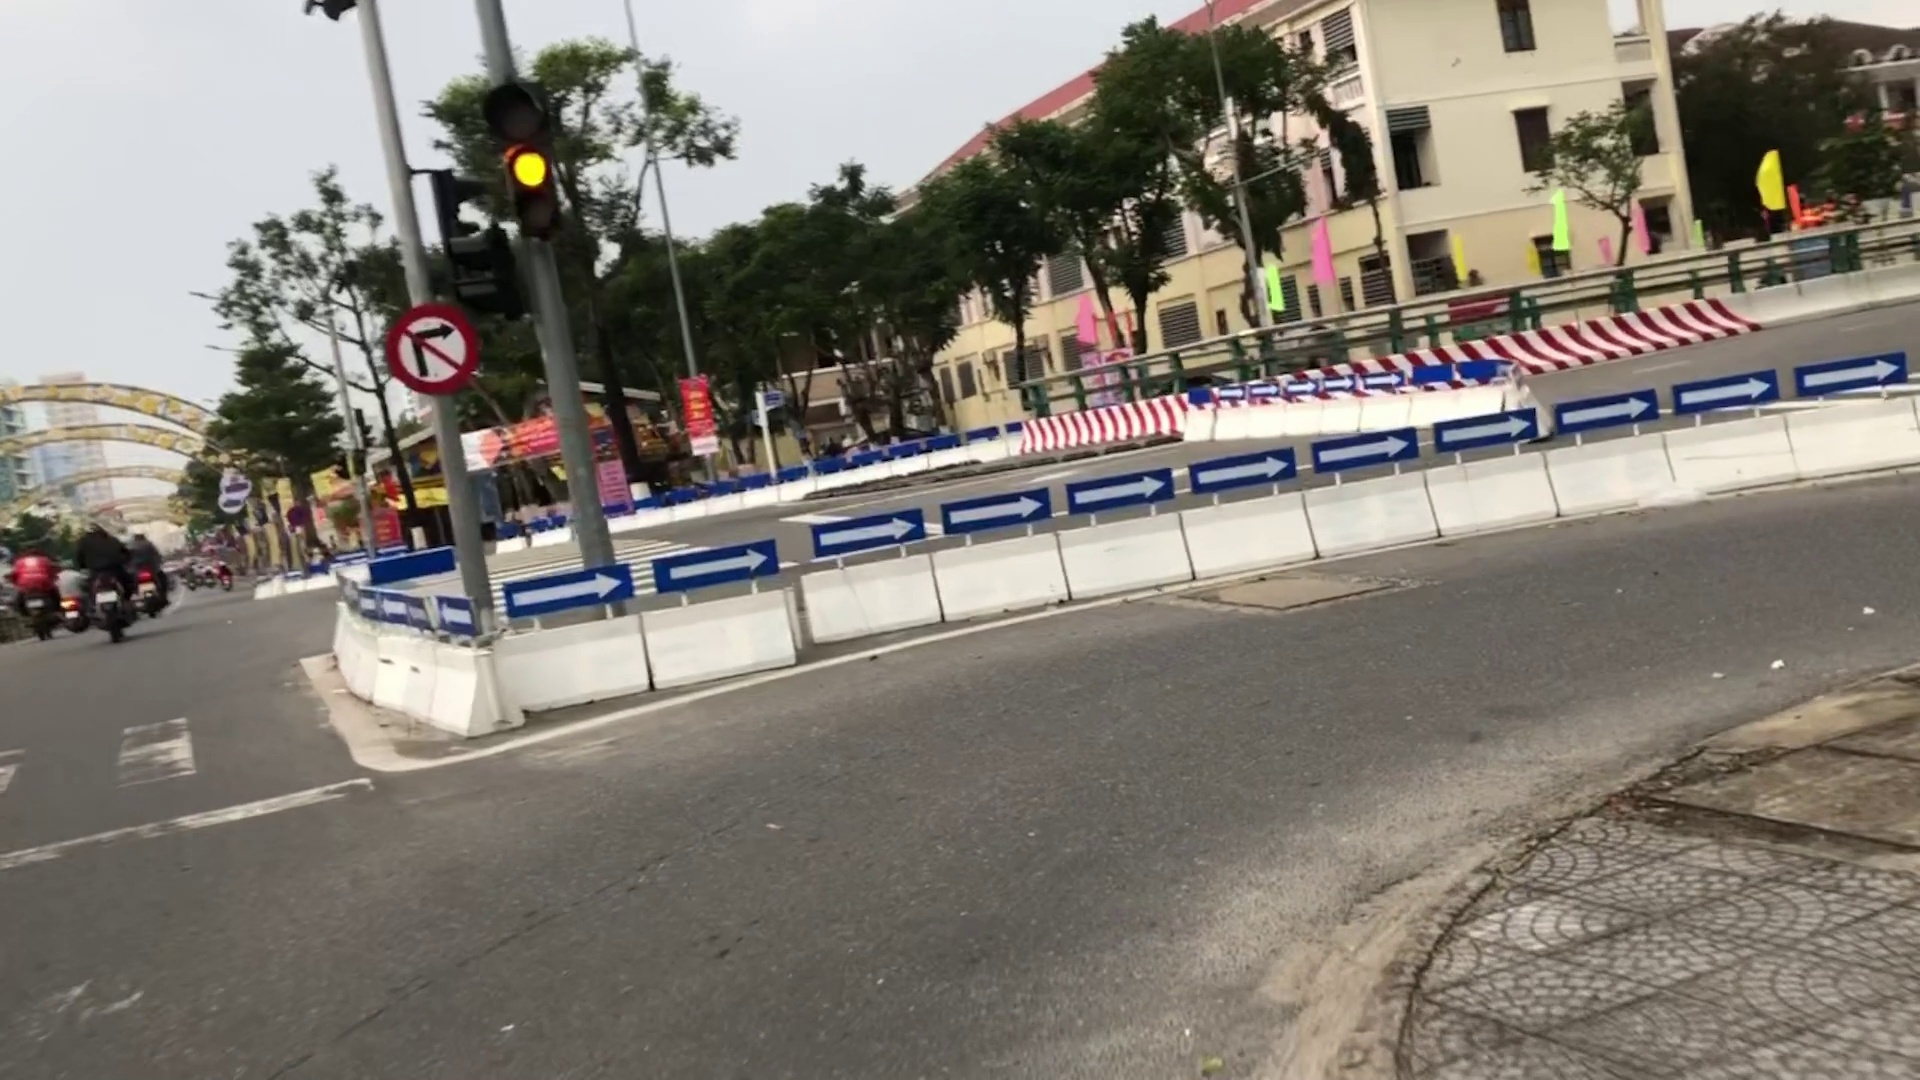Bien khac: (382, 301, 473, 396)
